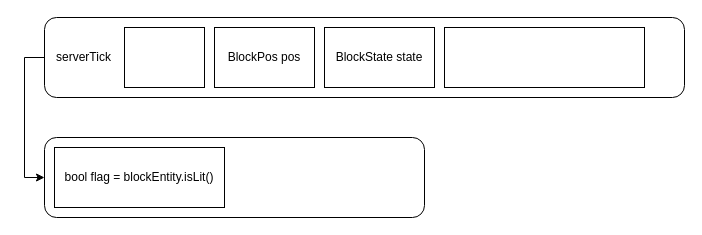
This 702x235 diagram has some shape labels left out. The box of each missing label's shape, as (x1, y1, x2, y2) in pixels:
AbstractFurnaceBlockEntity entity: (444, 26, 644, 88)
Level level: (124, 26, 204, 88)
